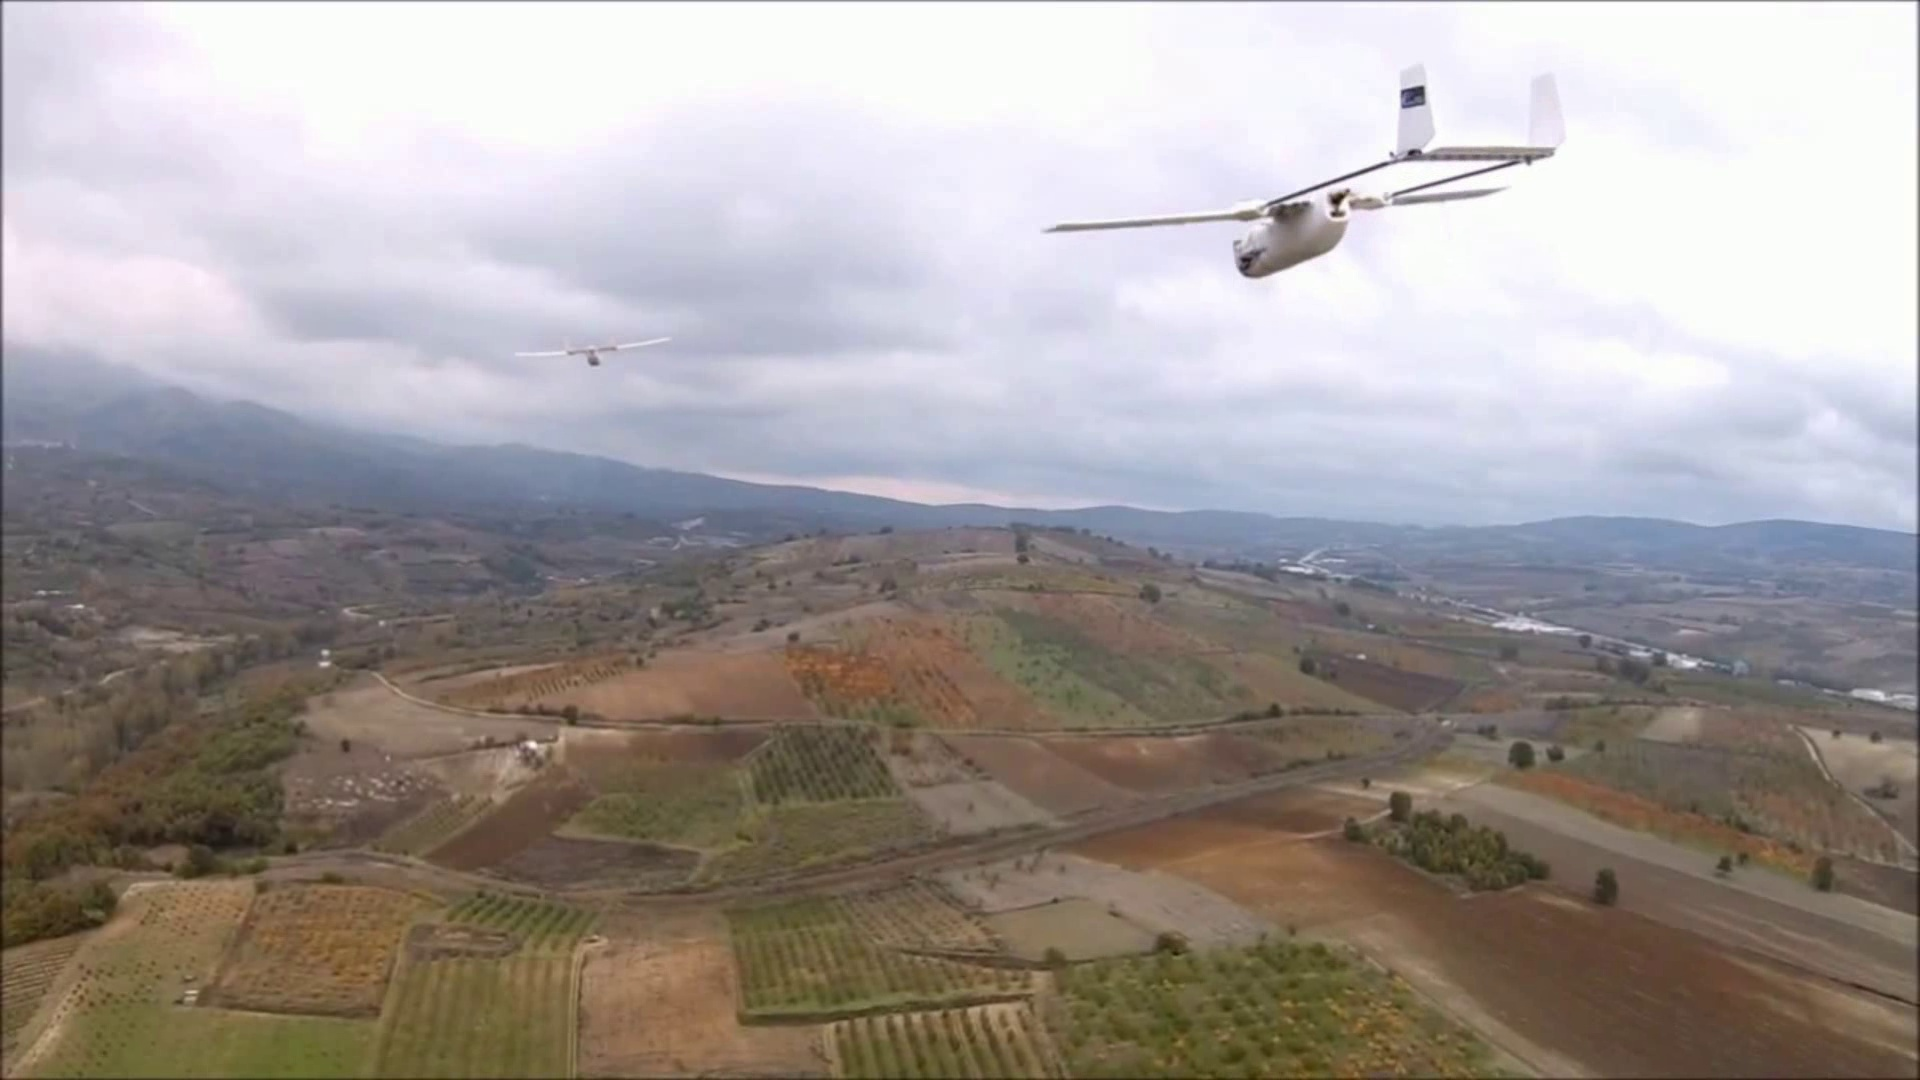airplane: (1043, 69, 1563, 281)
